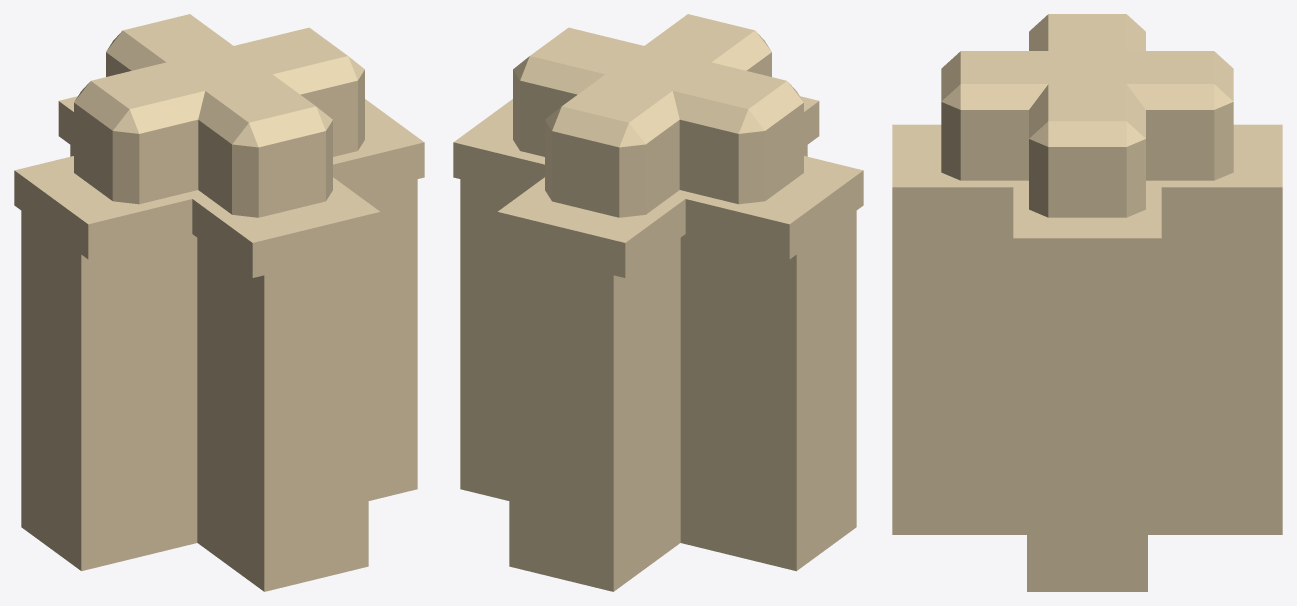
The model's file is wall_cross_upper.glb.
3 renders of one model, left to right at view 1: azimuth 30°, elevation 25°; view 2: azimuth 150°, elevation 25°; view 3: azimuth 270°, elevation 25°, orthographic.
Parts seen in each view (by area): view 1: wall; view 2: wall; view 3: wall.
Boxes of the visible parts, box(x1,y1,x2,y2) form: wall: box(14, 14, 424, 591); wall: box(453, 14, 863, 591); wall: box(892, 14, 1282, 591).
Bounding box in the file's own units: 1 × 1.25 × 1.
